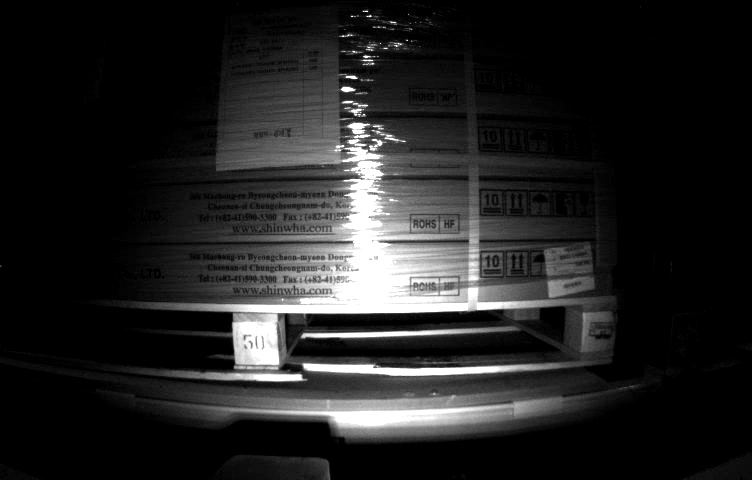True Barcode: (542, 240, 598, 298)
